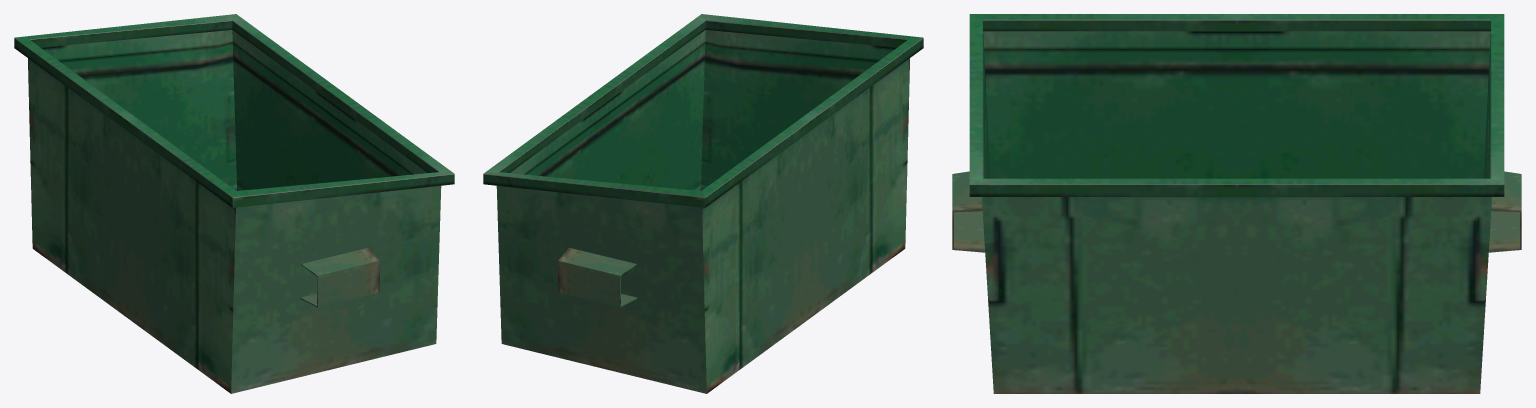
The model's file is Urban_DumpsterDiagonalEmptyNoLid_Model.fbx.
3 renders of one model, left to right at view 1: azimuth 30°, elevation 25°; view 2: azimuth 150°, elevation 25°; view 3: azimuth 270°, elevation 25°, orthographic. The views are drawn at different scales.
Visible parts, largest first — view 1: Urban_DumpsterDiagonalEmptyNoLid_Mesh; view 2: Urban_DumpsterDiagonalEmptyNoLid_Mesh; view 3: Urban_DumpsterDiagonalEmptyNoLid_Mesh.
Boxes of the visible parts, box(x1,y1,x2,y2) form: Urban_DumpsterDiagonalEmptyNoLid_Mesh: box(14, 14, 454, 393); Urban_DumpsterDiagonalEmptyNoLid_Mesh: box(483, 14, 923, 393); Urban_DumpsterDiagonalEmptyNoLid_Mesh: box(952, 14, 1521, 393).
Bounding box in the file's own units: 2.03 × 1.8 × 3.67.
